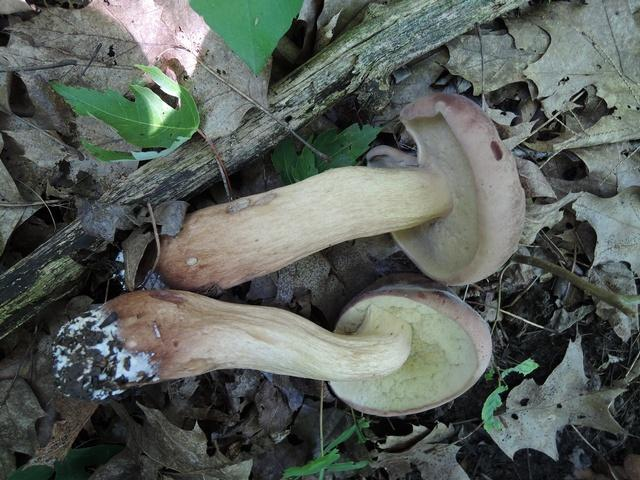Non-edible Mushroom: (153, 90, 526, 292), (34, 263, 490, 422)
